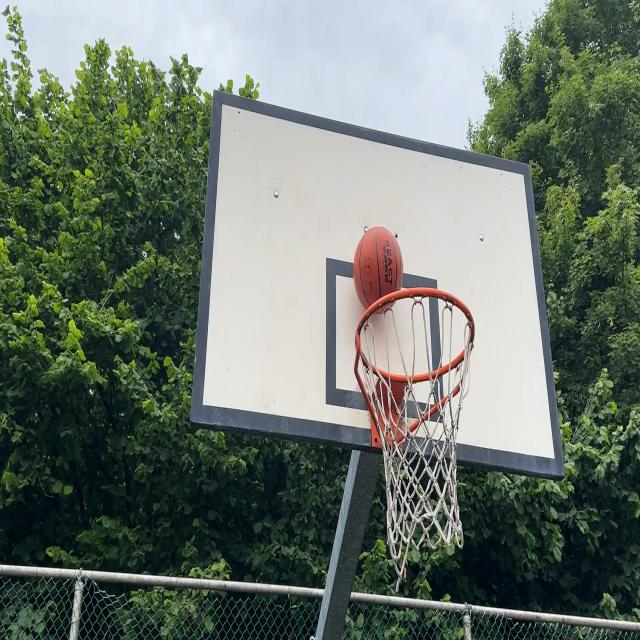rebound_hit: (352, 226, 402, 322)
